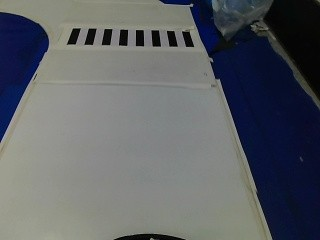crosswalk: (65, 24, 195, 49)
